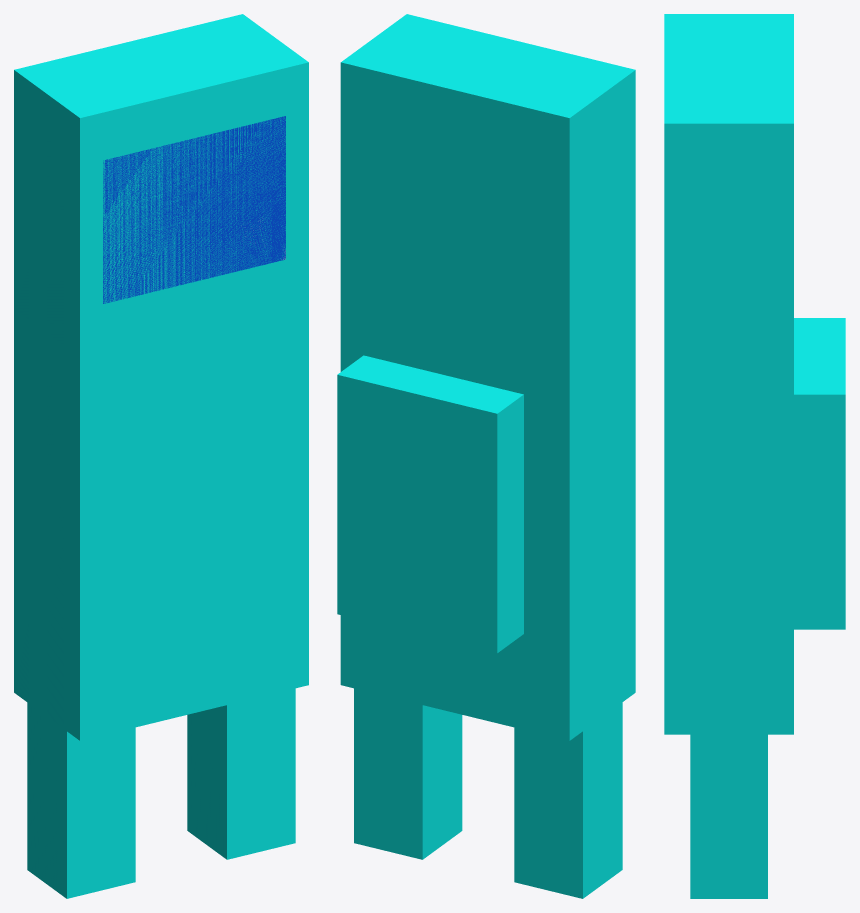
File: Among Us Char(LightBlue).gltf
3 views of the same model, side by side, from view 1: azimuth 30°, elevation 25°; view 2: azimuth 150°, elevation 25°; view 3: azimuth 270°, elevation 25° (orthographic).
Parts seen in each view (by area): view 1: 05df4ede-f837-c188-2e33-ef64abd97eee, cc3eb372-91fc-9da0-78a3-6f8f9a1f2dee, 9b6c5594-3cbf-47c0-bc0a-358ef91bbe2c, 3fa73543-9e25-d95c-6e87-302f2be02166, 2d3a24b5-ea57-e50f-346a-9413c0539ccd; view 2: cc3eb372-91fc-9da0-78a3-6f8f9a1f2dee, 05df4ede-f837-c188-2e33-ef64abd97eee, 5496d620-28b4-4bca-3728-1c5a1bee6332, 3fa73543-9e25-d95c-6e87-302f2be02166, 2d3a24b5-ea57-e50f-346a-9413c0539ccd; view 3: 05df4ede-f837-c188-2e33-ef64abd97eee, cc3eb372-91fc-9da0-78a3-6f8f9a1f2dee, 5496d620-28b4-4bca-3728-1c5a1bee6332, 2d3a24b5-ea57-e50f-346a-9413c0539ccd.
Boxes of the visible parts, x1=… form: 05df4ede-f837-c188-2e33-ef64abd97eee: x1=14, y1=302, x2=308, y2=740; cc3eb372-91fc-9da0-78a3-6f8f9a1f2dee: x1=14, y1=14, x2=308, y2=357; 9b6c5594-3cbf-47c0-bc0a-358ef91bbe2c: x1=103, y1=116, x2=285, y2=303; 3fa73543-9e25-d95c-6e87-302f2be02166: x1=27, y1=702, x2=135, y2=898; 2d3a24b5-ea57-e50f-346a-9413c0539ccd: x1=187, y1=688, x2=295, y2=859; cc3eb372-91fc-9da0-78a3-6f8f9a1f2dee: x1=340, y1=14, x2=635, y2=357; 05df4ede-f837-c188-2e33-ef64abd97eee: x1=340, y1=302, x2=635, y2=740; 5496d620-28b4-4bca-3728-1c5a1bee6332: x1=337, y1=355, x2=523, y2=653; 3fa73543-9e25-d95c-6e87-302f2be02166: x1=514, y1=702, x2=622, y2=898; 2d3a24b5-ea57-e50f-346a-9413c0539ccd: x1=354, y1=688, x2=462, y2=859; 05df4ede-f837-c188-2e33-ef64abd97eee: x1=664, y1=358, x2=793, y2=734; cc3eb372-91fc-9da0-78a3-6f8f9a1f2dee: x1=664, y1=14, x2=793, y2=358; 5496d620-28b4-4bca-3728-1c5a1bee6332: x1=794, y1=318, x2=845, y2=629; 2d3a24b5-ea57-e50f-346a-9413c0539ccd: x1=690, y1=734, x2=767, y2=898.
Size of the model in its own units: 0.625 by 2.06 by 0.4375.
4 materials, 4 textured.
